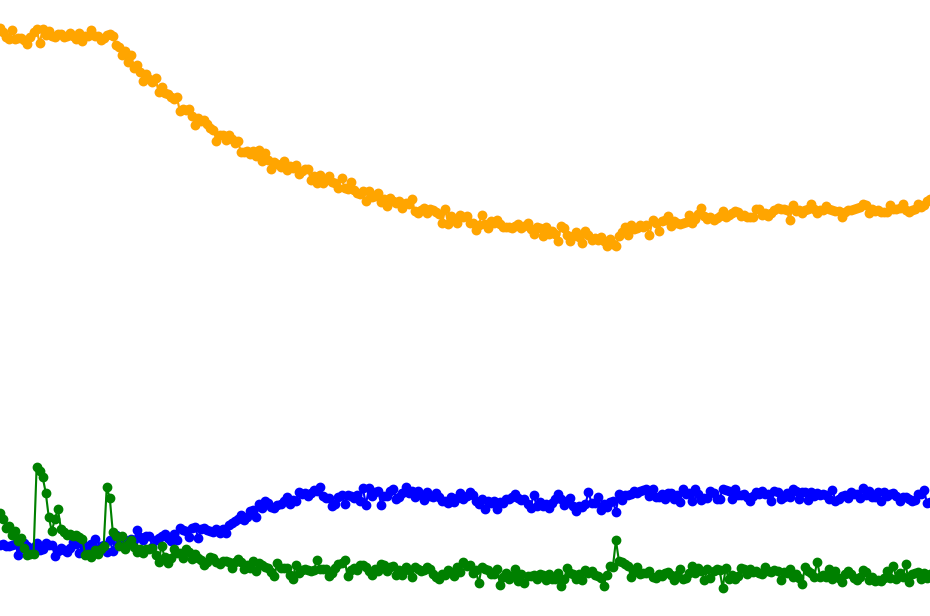CO2 Problem: (585, 0, 930, 616), (292, 0, 585, 616), (73, 0, 292, 616)
Condensation (CO2): (73, 0, 585, 616), (585, 0, 731, 616)
Condensation (O2): (585, 0, 731, 616)
High O2: (73, 0, 585, 616), (585, 0, 930, 616)
Low CO2: (585, 0, 930, 616), (292, 0, 585, 616), (73, 0, 292, 616), (0, 0, 73, 616)
Normal: (0, 0, 930, 616), (585, 0, 930, 616), (292, 0, 585, 616), (292, 0, 512, 616), (73, 0, 292, 616), (73, 0, 219, 616), (0, 0, 73, 616)
O2 Problem: (585, 0, 930, 616), (292, 0, 585, 616)
